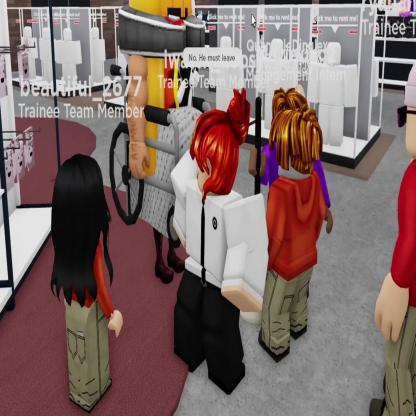Roblox-Avatar: (172, 88, 270, 395), (51, 154, 125, 415), (260, 104, 327, 364), (370, 61, 416, 416), (249, 88, 334, 235)
